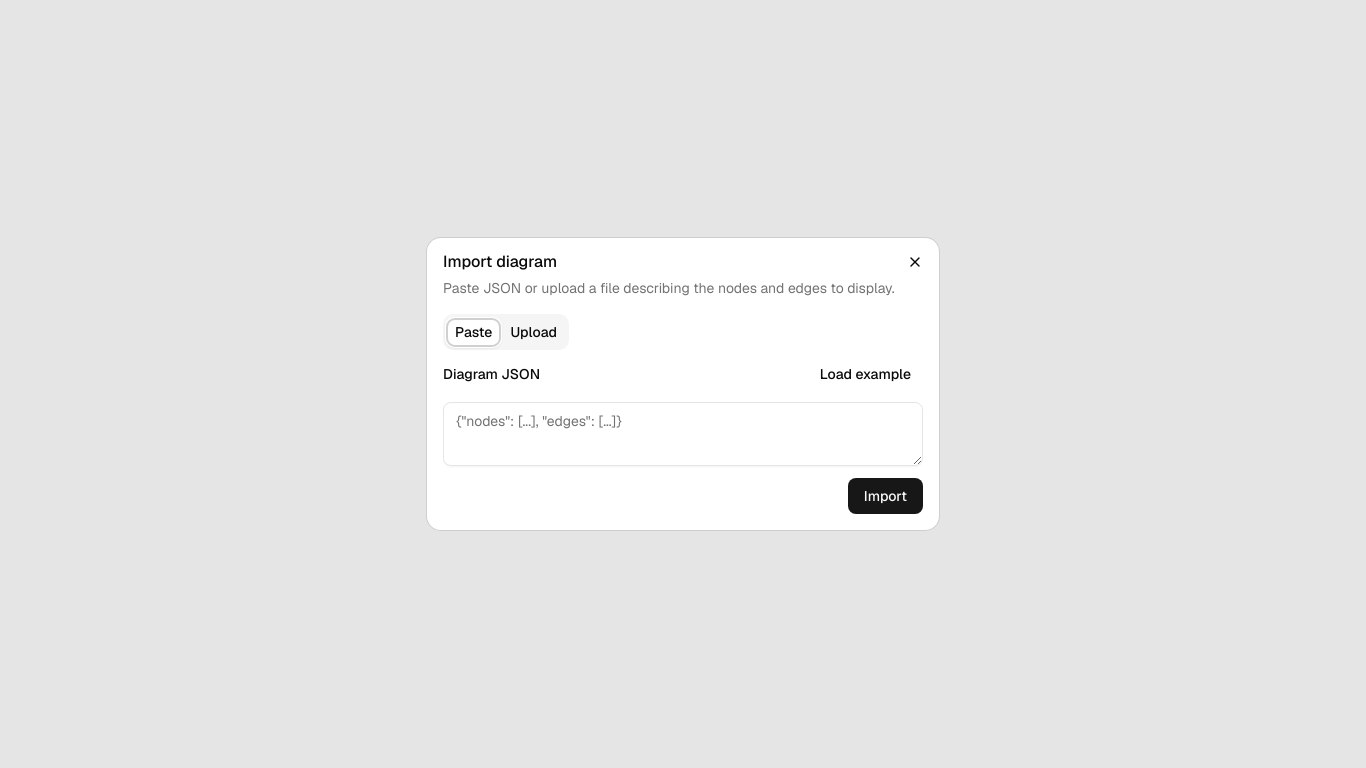
DiagramImportDialog Load example dropdown › lists every template under its group label
Click the button "Load example".
click(865, 374)  # box [808, 358, 923, 390]
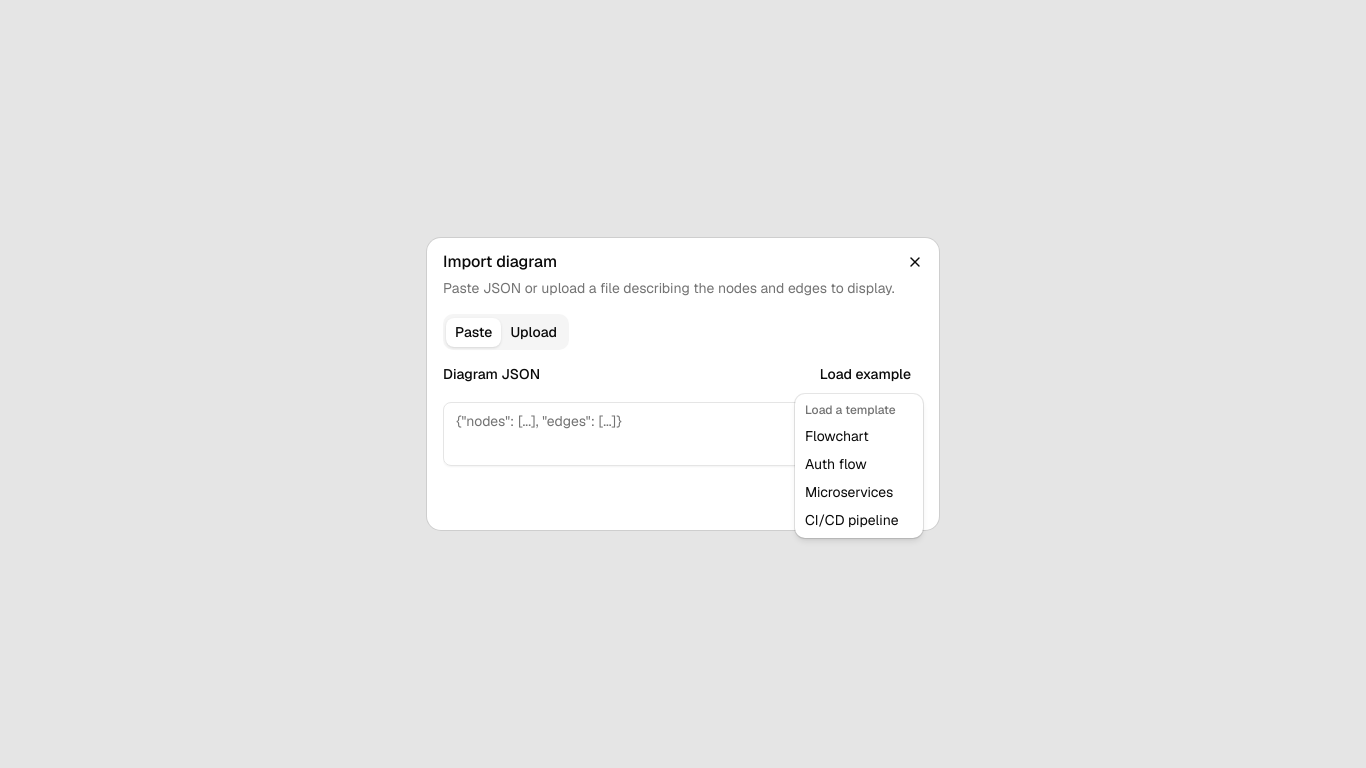
Check: the text "Load a template" is shown, box [805, 402, 896, 418]
Check: the menu item "Flowchart" is shown, box [805, 427, 869, 445]
Check: the menu item "Auth flow" is shown, box [805, 455, 867, 473]
